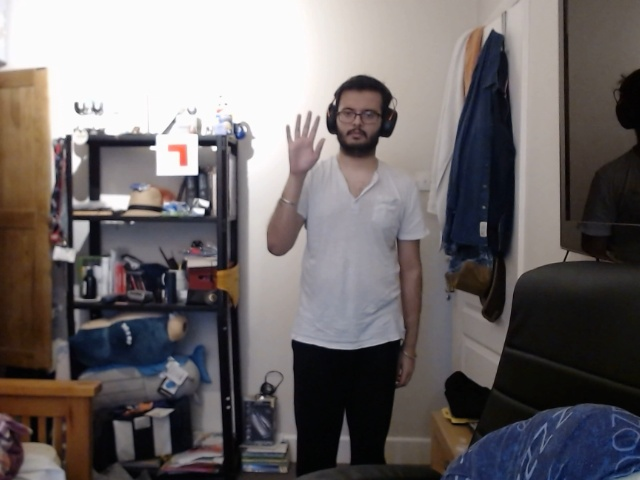Hello: (285, 107, 326, 178)
